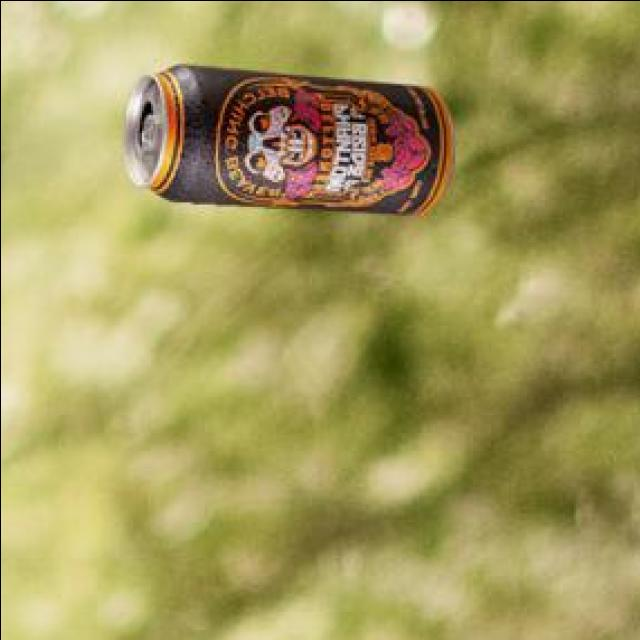logam: (126, 62, 458, 211)
